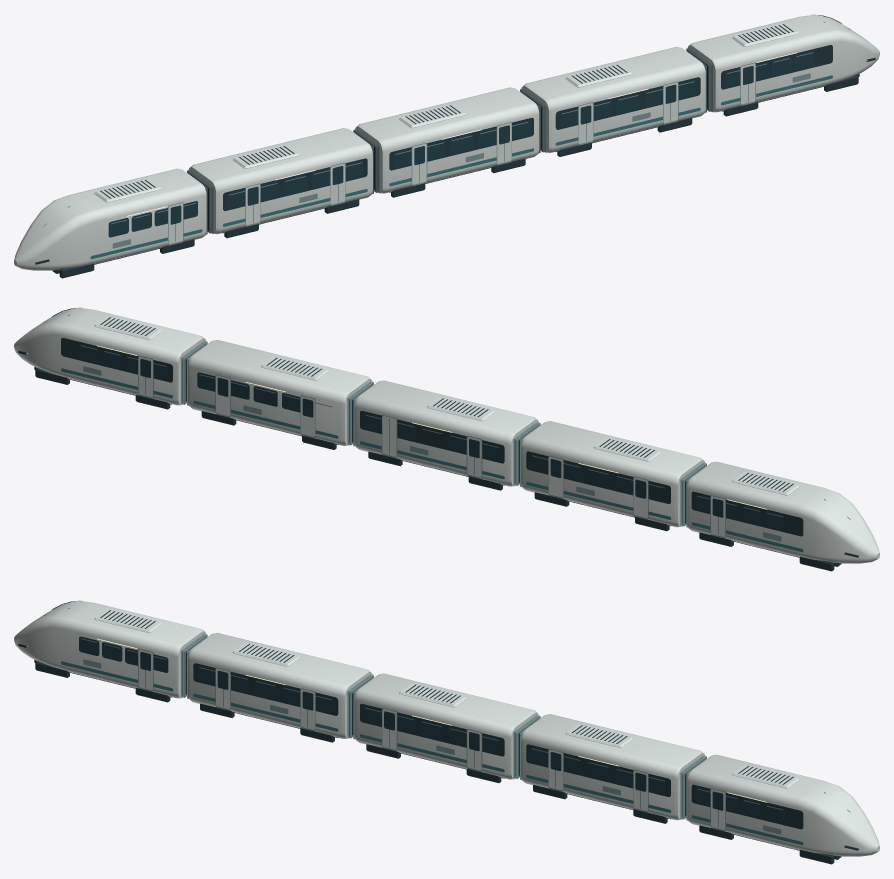
File: future_metro.glb
3 views of the same model, one above another, from view 1: azimuth 30°, elevation 25°; view 2: azimuth 150°, elevation 25°; view 3: azimuth 330°, elevation 25° (orthographic).
Parts seen in each view (by area): view 1: MetroCabRear_Metro pearl ceramic, MetroCoach01_Metro pearl ceramic, MetroCoach03_Metro pearl ceramic, MetroCoach02_Metro pearl ceramic, MetroCabFront_Metro pearl ceramic, MetroCoach03_Metro smoked glazing, MetroCoach01_Metro smoked glazing, MetroCoach02_Metro smoked glazing, MetroCabFront_Metro charcoal bellows, MetroCoach01_Metro charcoal bellows, MetroCoach03_Metro charcoal bellows, MetroCoach02_Metro charcoal bellows (+7 smaller); view 2: MetroCabRear_Metro pearl ceramic, MetroCoach01_Metro pearl ceramic, MetroCoach02_Metro pearl ceramic, MetroCoach03_Metro pearl ceramic, MetroCabFront_Metro pearl ceramic, MetroCoach03_Metro charcoal bellows, MetroCoach02_Metro charcoal bellows, MetroCabFront_Metro charcoal bellows, MetroCabRear_Metro charcoal bellows, MetroCoach01_Metro smoked glazing, MetroCoach03_Metro smoked glazing, MetroCoach02_Metro smoked glazing (+7 smaller); view 3: MetroCabFront_Metro pearl ceramic, MetroCabRear_Metro pearl ceramic, MetroCoach01_Metro pearl ceramic, MetroCoach03_Metro pearl ceramic, MetroCoach02_Metro pearl ceramic, MetroCoach01_Metro smoked glazing, MetroCoach03_Metro smoked glazing, MetroCoach02_Metro smoked glazing, MetroCabFront_Metro charcoal bellows, MetroCoach03_Metro charcoal bellows, MetroCoach02_Metro charcoal bellows, MetroCoach01_Metro charcoal bellows (+7 smaller).
Part boxes in pixels (<box>): MetroCabRear_Metro pearl ceramic: <box>14,168,206,270</box>; MetroCoach01_Metro pearl ceramic: <box>521,47,705,152</box>; MetroCoach03_Metro pearl ceramic: <box>188,128,372,234</box>; MetroCoach02_Metro pearl ceramic: <box>355,87,539,193</box>; MetroCabFront_Metro pearl ceramic: <box>687,14,879,112</box>; MetroCoach03_Metro smoked glazing: <box>227,160,363,208</box>; MetroCoach01_Metro smoked glazing: <box>560,79,696,127</box>; MetroCoach02_Metro smoked glazing: <box>393,120,530,167</box>; MetroCabFront_Metro charcoal bellows: <box>688,24,875,116</box>; MetroCoach01_Metro charcoal bellows: <box>521,65,700,156</box>; MetroCoach03_Metro charcoal bellows: <box>188,146,372,238</box>; MetroCoach02_Metro charcoal bellows: <box>355,105,533,197</box>; MetroCabRear_Metro pearl ceramic: <box>687,461,879,563</box>; MetroCoach01_Metro pearl ceramic: <box>188,340,372,445</box>; MetroCoach02_Metro pearl ceramic: <box>354,380,538,486</box>; MetroCoach03_Metro pearl ceramic: <box>521,421,705,527</box>; MetroCabFront_Metro pearl ceramic: <box>14,307,206,405</box>; MetroCoach03_Metro charcoal bellows: <box>521,439,705,531</box>; MetroCoach02_Metro charcoal bellows: <box>360,398,538,490</box>; MetroCabFront_Metro charcoal bellows: <box>18,317,205,409</box>; MetroCabRear_Metro charcoal bellows: <box>691,473,858,571</box>; MetroCoach01_Metro smoked glazing: <box>197,372,313,417</box>; MetroCoach03_Metro smoked glazing: <box>550,459,646,498</box>; MetroCoach02_Metro smoked glazing: <box>363,413,500,460</box>; MetroCabFront_Metro pearl ceramic: <box>687,754,879,856</box>; MetroCabRear_Metro pearl ceramic: <box>14,600,206,698</box>; MetroCoach01_Metro pearl ceramic: <box>521,714,705,820</box>; MetroCoach03_Metro pearl ceramic: <box>188,633,372,738</box>; MetroCoach02_Metro pearl ceramic: <box>354,673,538,779</box>; MetroCoach01_Metro smoked glazing: <box>530,746,666,794</box>; MetroCoach03_Metro smoked glazing: <box>197,665,333,713</box>; MetroCoach02_Metro smoked glazing: <box>363,706,500,753</box>; MetroCabFront_Metro charcoal bellows: <box>691,766,858,864</box>; MetroCoach03_Metro charcoal bellows: <box>193,644,372,742</box>; MetroCoach02_Metro charcoal bellows: <box>360,684,538,783</box>; MetroCoach01_Metro charcoal bellows: <box>521,725,705,823</box>.
Size of the model in its own units: 49 by 3.3 by 2.97.
